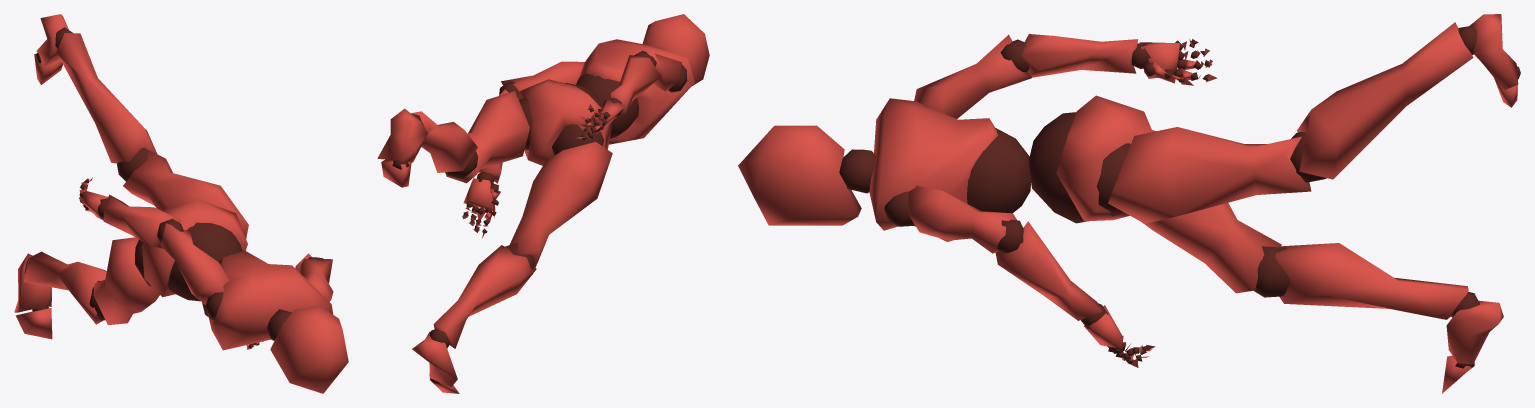
3 views of the same model, side by side, from view 1: azimuth 30°, elevation 25°; view 2: azimuth 150°, elevation 25°; view 3: azimuth 270°, elevation 25° (orthographic). The views are drawn at different scales.
Visible parts, largest first — view 1: Beta_Surface, Beta_Joints; view 2: Beta_Surface, Beta_Joints; view 3: Beta_Surface, Beta_Joints.
Part boxes in pixels (box(x1,y1,x2,y2)): Beta_Surface: box(14, 14, 348, 393); Beta_Joints: box(24, 27, 323, 348); Beta_Surface: box(377, 14, 709, 393); Beta_Joints: box(392, 50, 687, 383); Beta_Surface: box(738, 14, 1518, 393); Beta_Joints: box(839, 26, 1520, 370).
Bounding box in the file's own units: 0.6228 × 0.9776 × 1.76.
